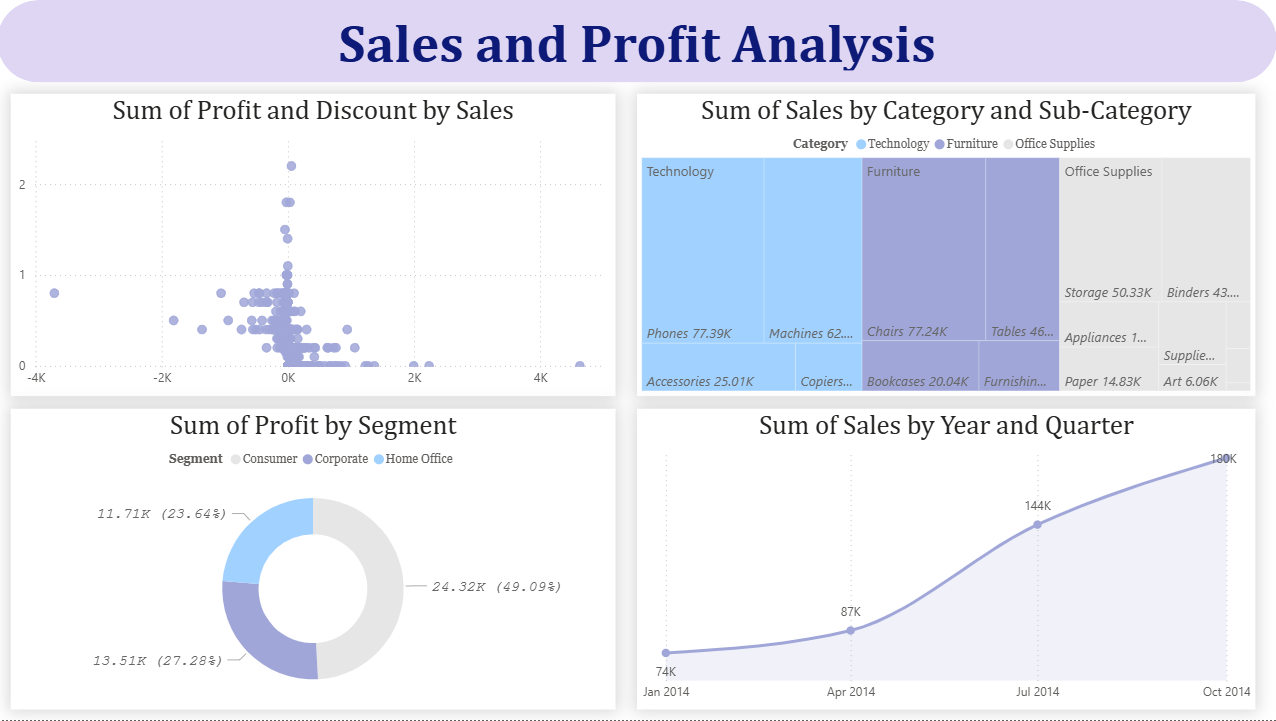

The dashboard page shown, as its layout file describes it:
{"tool":"powerbi","page":{"name":"Page 1","canvas":[1280,720],"ordinal":0},"visuals":[{"type":"scatterChart","title":"Sum of Profit and Discount by Sales","fields":{"X":["Sum(Sample - Superstore.Profit)"],"Y":["Sum(Sample - Superstore.Discount)"],"Category":["Sample - Superstore.Sales"]},"box":[14,94.2,604.7,302.3],"z":1000},{"type":"donutChart","fields":{"Category":["Sample - Superstore.Segment"],"Y":["Sum(Sample - Superstore.Profit)"]},"box":[14,409.3,604.7,301.2],"z":4000},{"type":"treemap","fields":{"Group":["Sample - Superstore.Category"],"Details":["Sample - Superstore.Sub-Category"],"Values":["Sum(Sample - Superstore.Sales)"]},"box":[639.5,94.2,618.6,302.3],"z":6000},{"type":"lineChart","fields":{"Y":["Sum(Sample - Superstore.Sales)"],"Category":["Sample - Superstore.Order Date.Variation.Date Hierarchy.Year","Sample - Superstore.Order Date.Variation.Date Hierarchy.Quarter","Sample - Superstore.Order Date.Variation.Date Hierarchy.Month","Sample - Superstore.Order Date.Variation.Date Hierarchy.Day"]},"box":[639.5,409.3,618.6,301.2],"z":7000},{"type":"shape","box":[0,0,1280,82.5],"z":7001}]}

Visuals, with their boxes in screenshot pixels (x1, y1, x2, y2), scaled from the page's 1280x720 canvas onto the 1276x721 screenshot:
"Sum of Profit and Discount by Sales" scatterChart: 14, 94, 617, 397
donutChart - Sample - Superstore.Segment x Sum(Sample - Superstore.Profit): 14, 410, 617, 711
treemap - Sample - Superstore.Category x Sample - Superstore.Sub-Category: 638, 94, 1254, 397
lineChart - Sum(Sample - Superstore.Sales) x Sample - Superstore.Order Date.Variation.Date Hierarchy.Year: 638, 410, 1254, 711
shape: 0, 0, 1275, 83
